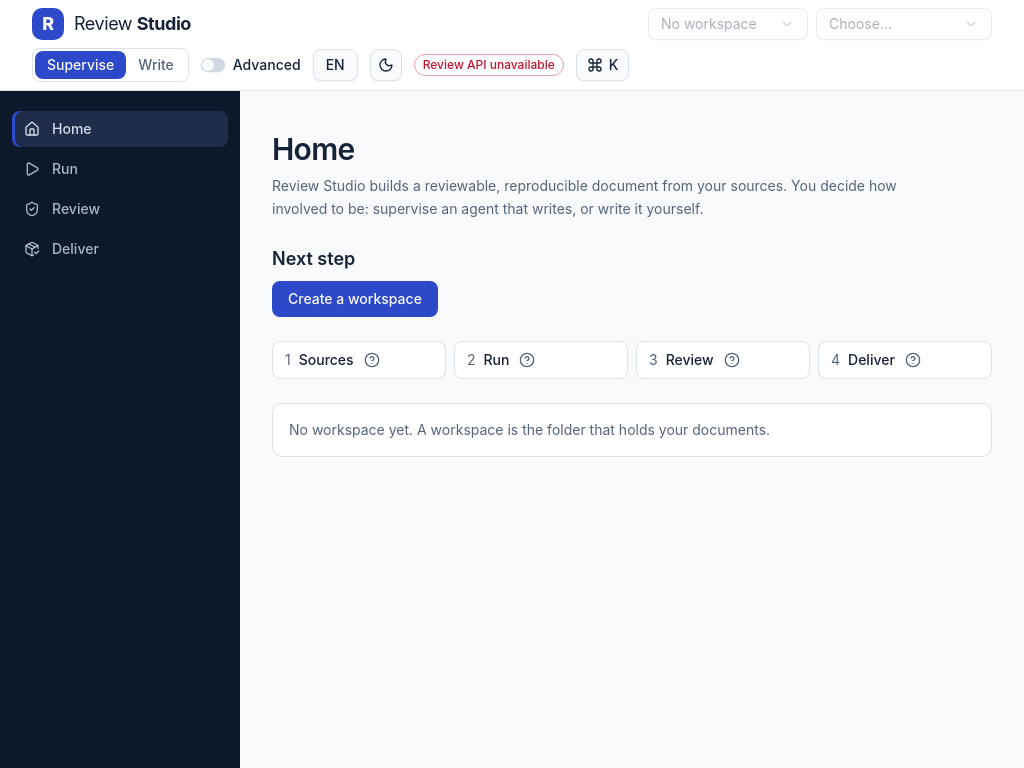
command palette capabilities › falls back to the CLI string for a capability it has no label for
Click the button named "Open command menu": (603, 65) [576,49,629,81]
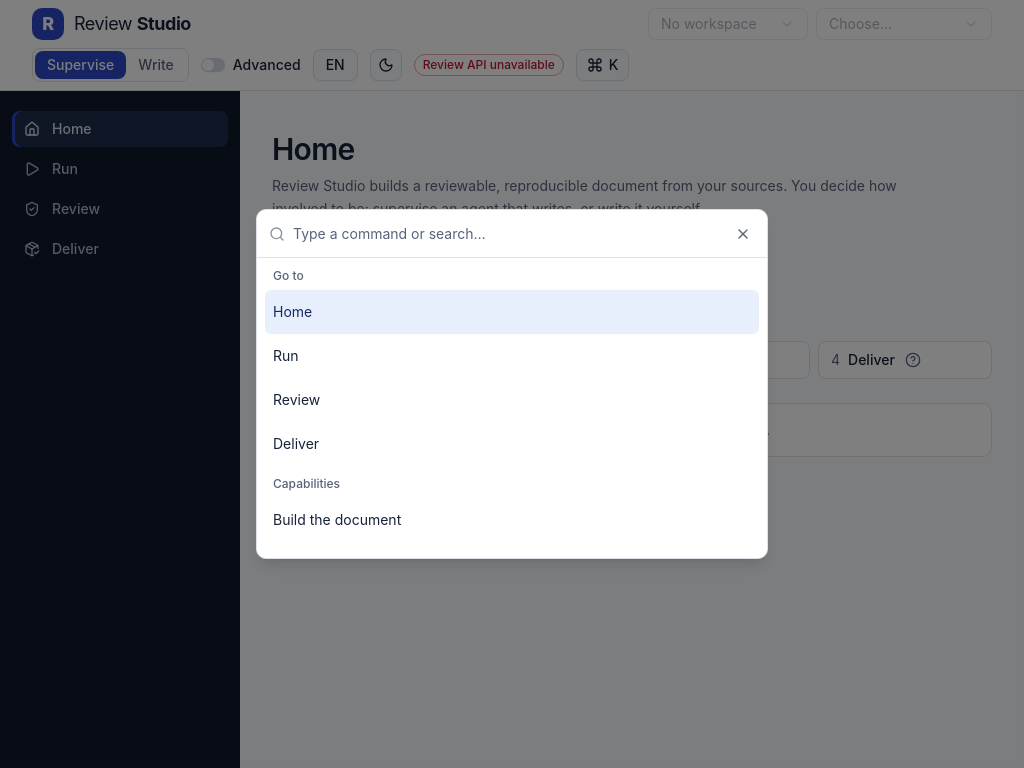
Now the option "Build the document" is shown, box [273,511,401,528]
